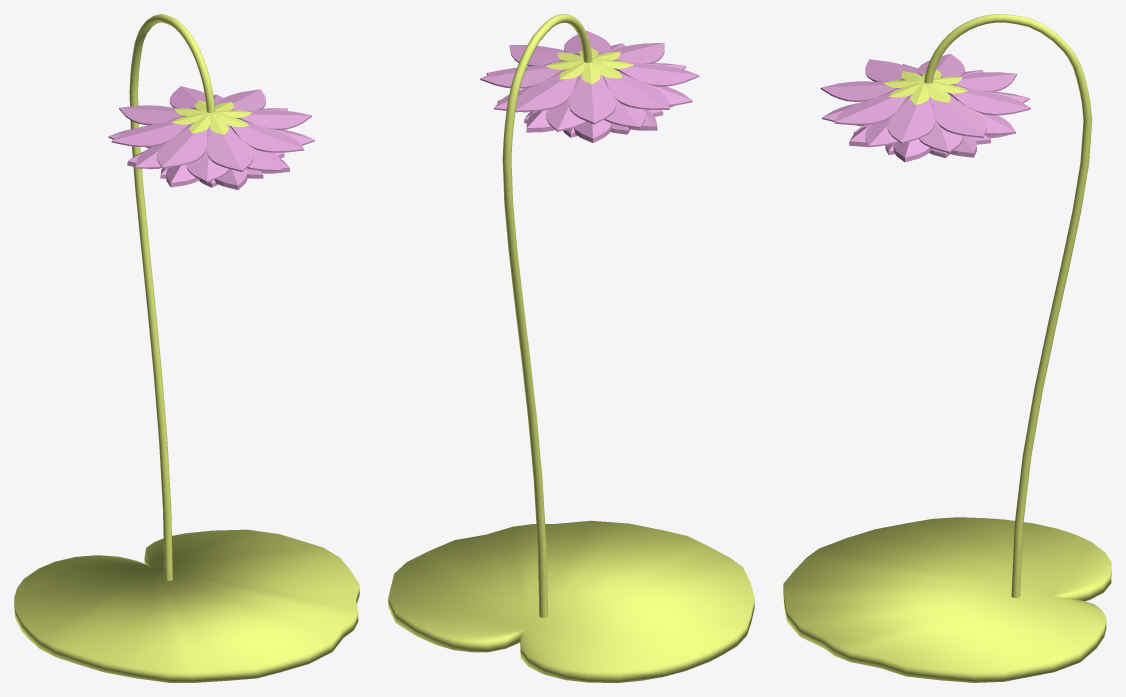
The model's file is LamppuJalallinen.fbx.
3 renders of one model, left to right at view 1: azimuth 30°, elevation 25°; view 2: azimuth 150°, elevation 25°; view 3: azimuth 270°, elevation 25°, orthographic. The views are drawn at different scales.
Visible parts, largest first — view 1: Plane; view 2: Plane; view 3: Plane.
Boxes of the visible parts, bbox=[...] form: Plane: bbox=[14, 14, 359, 682]; Plane: bbox=[388, 14, 754, 682]; Plane: bbox=[783, 14, 1111, 682].
Bounding box in the file's own units: 2.2 × 3.92 × 1.97.
